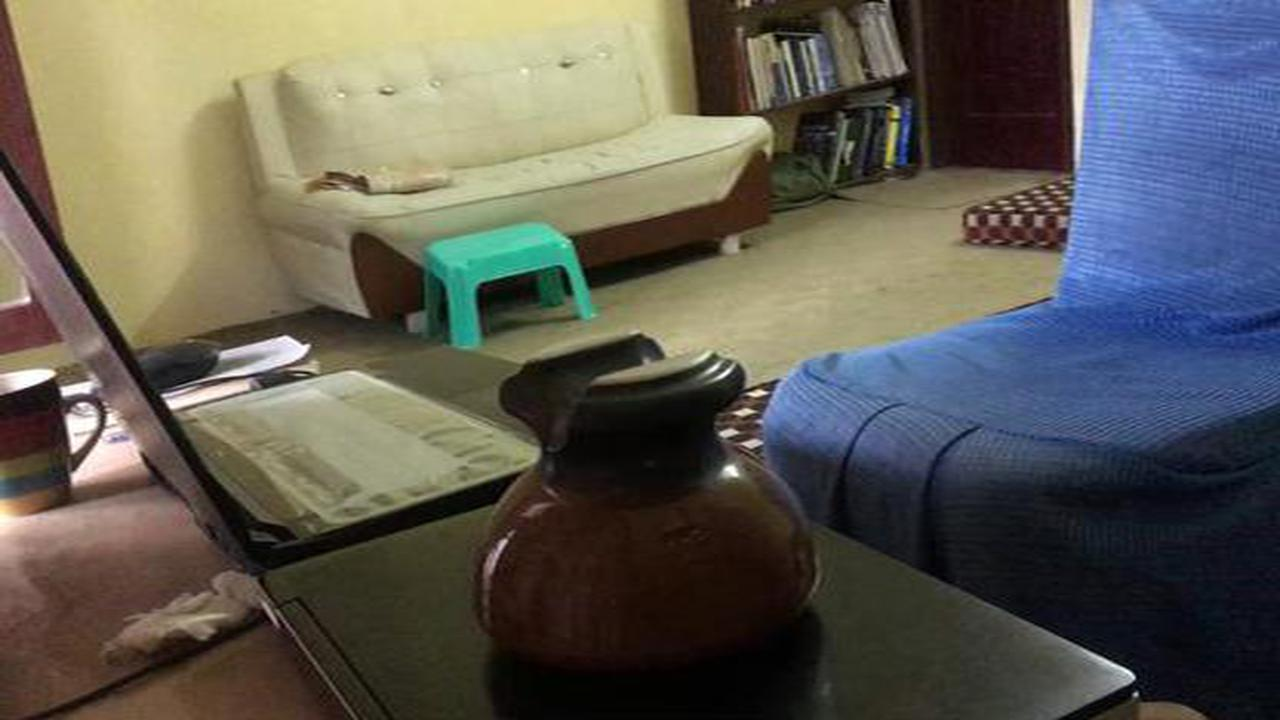insulator_pin: (465, 328, 844, 681)
